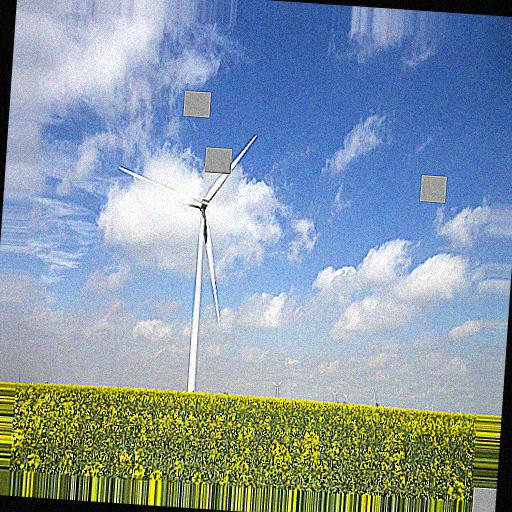wind turbine: (118, 133, 257, 397)
